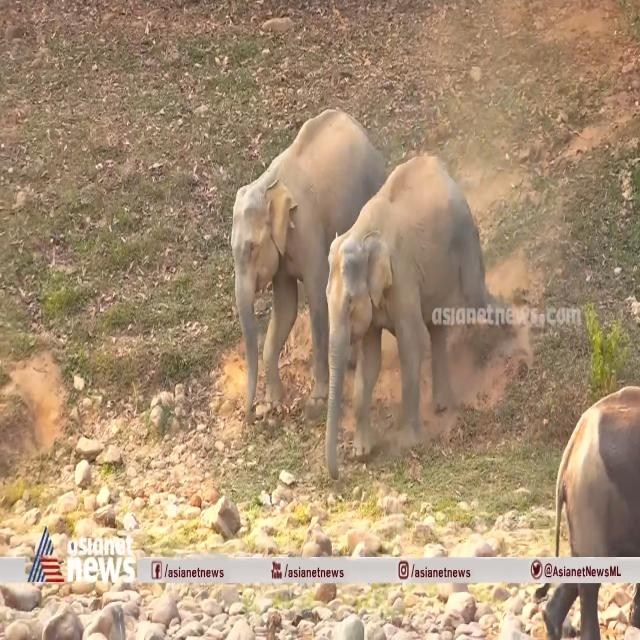ELEPHANT: (332, 154, 425, 468), (230, 116, 326, 405)
